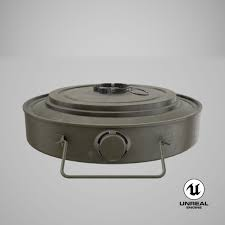car: (14, 64, 205, 183)
